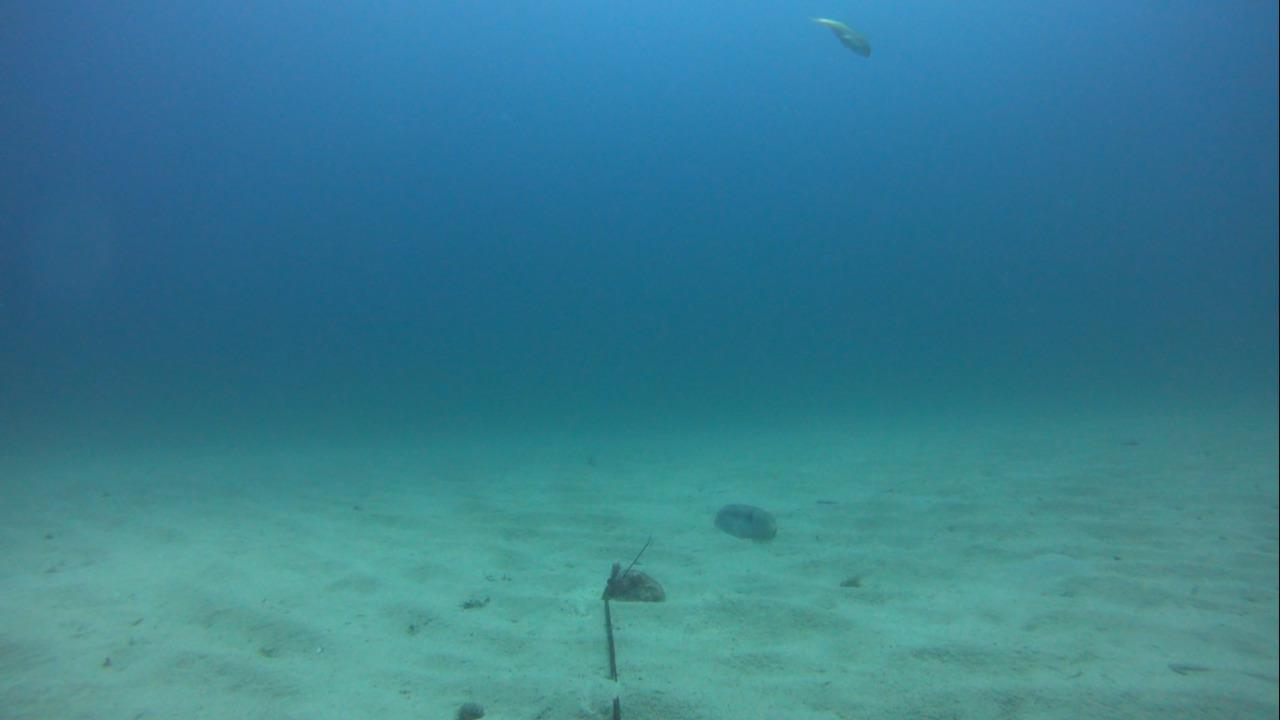raor: (706, 499, 786, 546), (800, 14, 880, 60)
